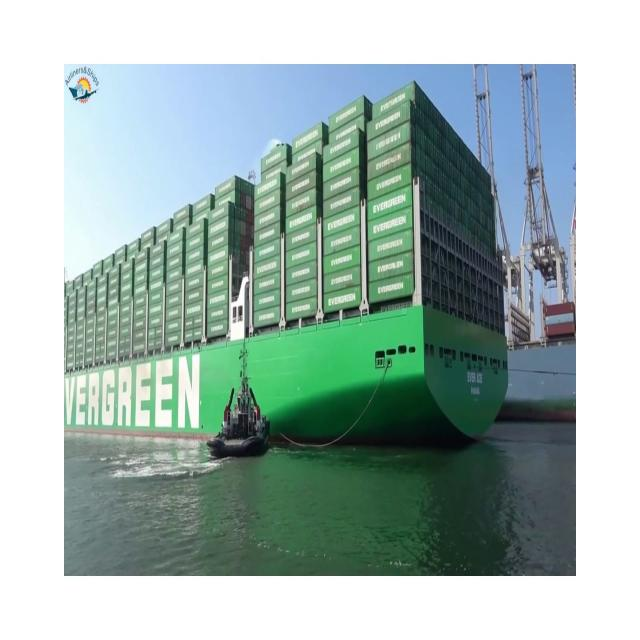OCR: (66, 325, 218, 456)
